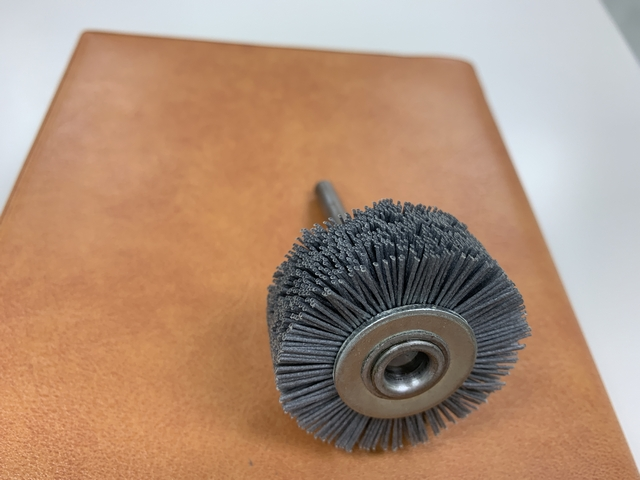Wheel Brush: (208, 137, 543, 460), (260, 173, 489, 458), (295, 175, 523, 451)
